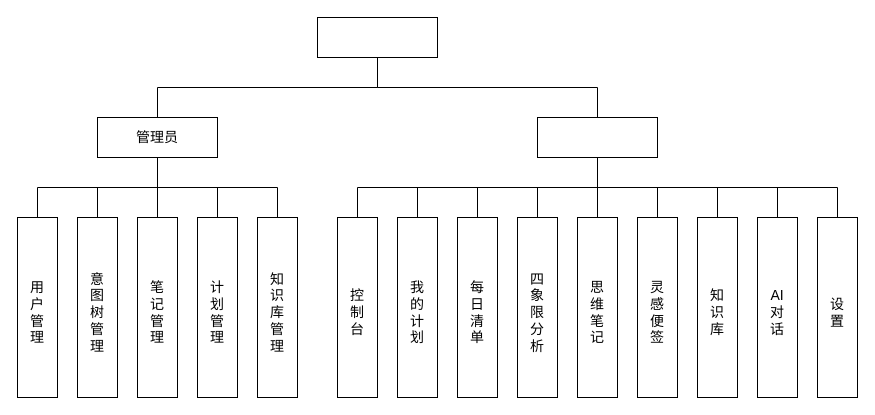
Some shapes in this 875 by 415 pixel diagram are drawn without their labels. Each missing label, with the centre of its shape:
"功能结构" goes at [377,37].
"普通用户" goes at [597,137].
